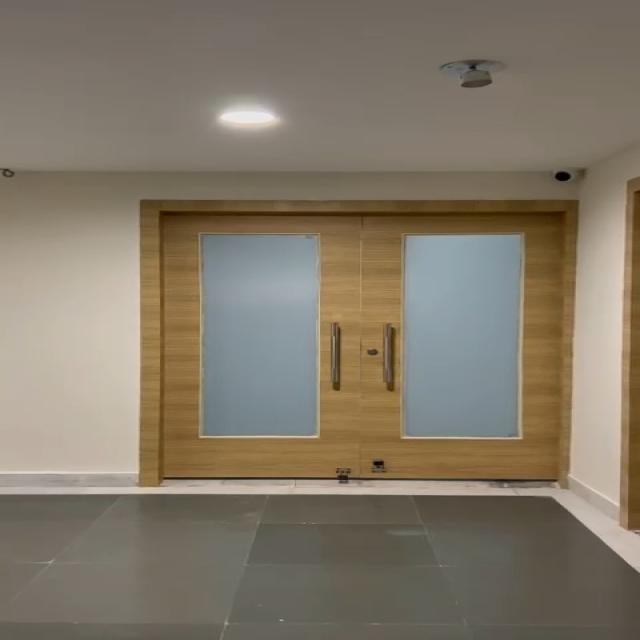door: (139, 201, 565, 483)
floor: (0, 494, 601, 640)
wall: (1, 168, 142, 483)
